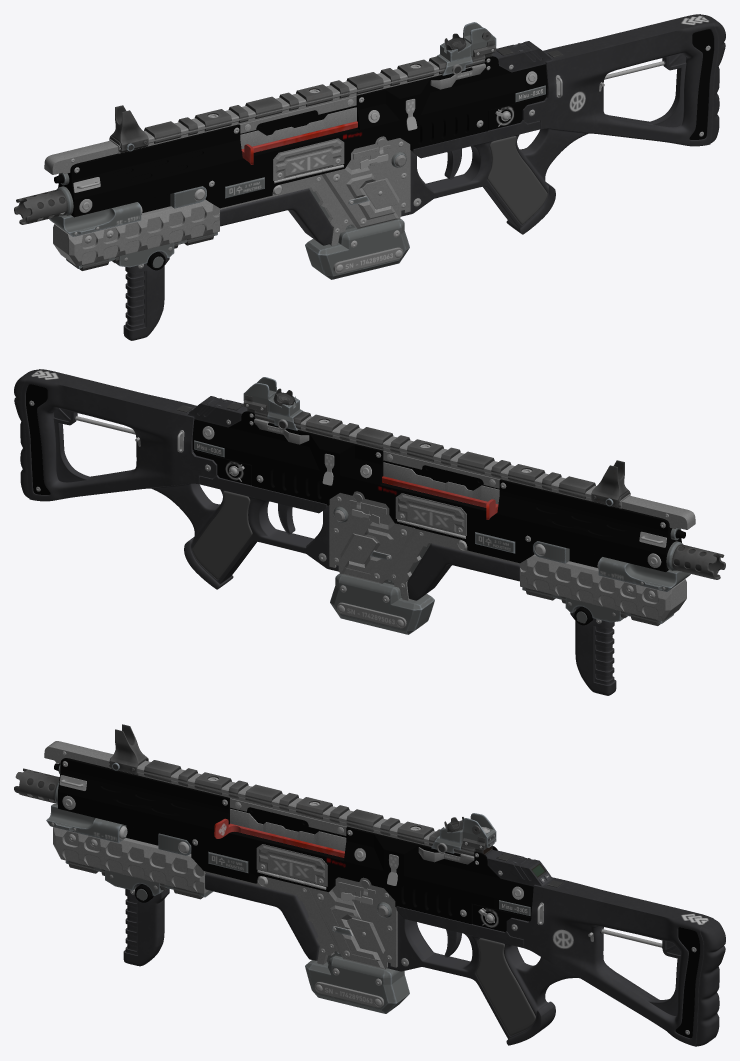
File: carApex.gltf
The picture shows the model from 3 angles, top to bottom: view 1: azimuth 30°, elevation 25°; view 2: azimuth 150°, elevation 25°; view 3: azimuth 330°, elevation 25°; orthographic projection.
Parts seen in each view (by area): view 1: culata_Low, Metal oscuro_Low, Encima del cargador_Low, Riel del mango_Low, Encimeros Metal arriba_Low, Metal arriba sobresalido_Low, Cargador_Low, Agarre culata_Low, Guarda mano_Low, Mango_Low, Metal arriba y abajo_Low, caja cilindros_Low (+12 smaller); view 2: culata_Low, Metal oscuro_Low, Encima del cargador_Low, Riel del mango_Low, Encimeros Metal arriba_Low, Metal arriba sobresalido_Low, Cargador_Low, Agarre culata_Low, Guarda mano_Low, Mango_Low, Metal arriba y abajo_Low, caja cilindros_Low (+12 smaller); view 3: culata_Low, Metal oscuro_Low, Encima del cargador_Low, Riel del mango_Low, Encimeros Metal arriba_Low, Cargador_Low, Metal arriba sobresalido_Low, Agarre culata_Low, Guarda mano_Low, Mango_Low, Metal arriba y abajo_Low, caja cilindros_Low (+12 smaller).
Part boxes in pixels (left/top/right/bottom): culata_Low: left=401, top=14, right=725, bottom=234; Metal oscuro_Low: left=58, top=56, right=547, bottom=217; Encima del cargador_Low: left=220, top=136, right=410, bottom=245; Riel del mango_Low: left=53, top=199, right=219, bottom=266; Encimeros Metal arriba_Low: left=109, top=54, right=485, bottom=152; Metal arriba sobresalido_Low: left=44, top=96, right=356, bottom=174; Cargador_Low: left=305, top=188, right=409, bottom=279; Agarre culata_Low: left=487, top=136, right=547, bottom=224; Guarda mano_Low: left=220, top=188, right=332, bottom=245; Mango_Low: left=123, top=251, right=169, bottom=340; Metal arriba y abajo_Low: left=66, top=59, right=484, bottom=268; caja cilindros_Low: left=273, top=138, right=344, bottom=180; culata_Low: left=14, top=369, right=338, bottom=589; Metal oscuro_Low: left=192, top=411, right=681, bottom=571; Encima del cargador_Low: left=329, top=491, right=519, bottom=600; Riel del mango_Low: left=520, top=554, right=686, bottom=621; Encimeros Metal arriba_Low: left=254, top=409, right=630, bottom=507; Metal arriba sobresalido_Low: left=383, top=451, right=695, bottom=529; Cargador_Low: left=330, top=543, right=434, bottom=634; Agarre culata_Low: left=192, top=491, right=252, bottom=579; Guarda mano_Low: left=407, top=543, right=519, bottom=600; Mango_Low: left=570, top=606, right=616, bottom=695; Metal arriba y abajo_Low: left=255, top=414, right=673, bottom=623; caja cilindros_Low: left=395, top=493, right=466, bottom=535; culata_Low: left=387, top=850, right=725, bottom=1046; Metal oscuro_Low: left=58, top=758, right=533, bottom=931; Encima del cargador_Low: left=205, top=871, right=397, bottom=969; Riel del mango_Low: left=53, top=827, right=208, bottom=893; Encimeros Metal arriba_Low: left=109, top=757, right=475, bottom=856; Cargador_Low: left=305, top=951, right=409, bottom=1013; Metal arriba sobresalido_Low: left=44, top=741, right=346, bottom=851; Agarre culata_Low: left=475, top=938, right=535, bottom=1035; Guarda mano_Low: left=205, top=873, right=319, bottom=960; Mango_Low: left=123, top=883, right=169, bottom=966; Metal arriba y abajo_Low: left=65, top=760, right=474, bottom=897; caja cilindros_Low: left=256, top=844, right=327, bottom=886.
Size of the model in its own units: 5.26 by 1.66 by 0.4995.
1 material, 1 textured.
